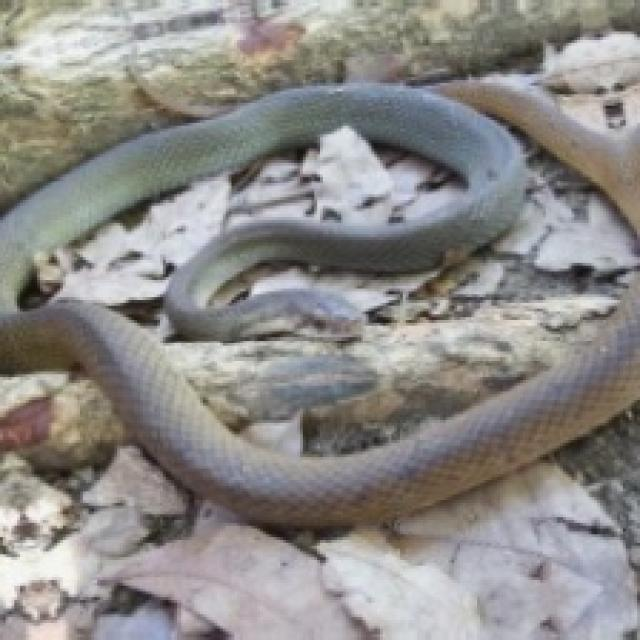reddish rat snake: (0, 86, 637, 526)
